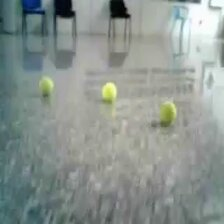tennis: (158, 101, 175, 123), (37, 77, 55, 95), (101, 82, 117, 100)
